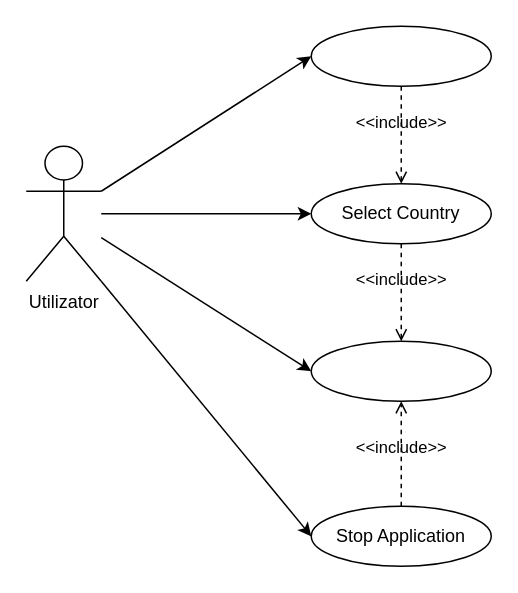
Image size: 518x593. Some labels were removed from this diagram. The centre of each missing label's shape, as x and y in pixels:
Open Application: the point at 400,370
Select City: the point at 400,55
